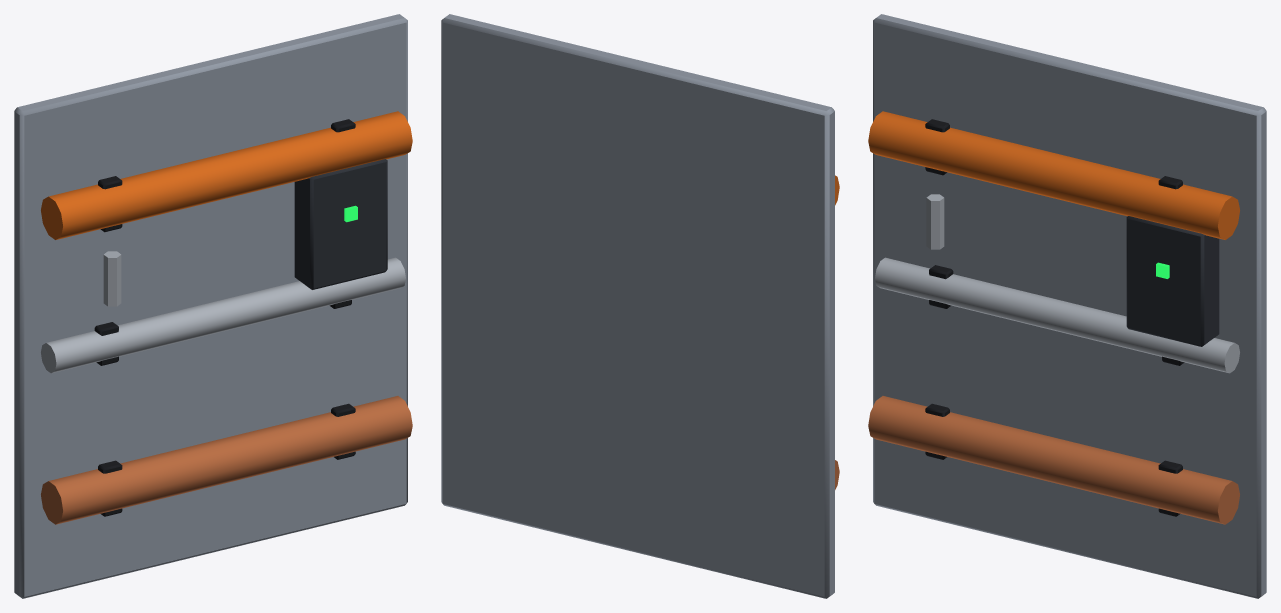
The model's file is wallpanel_conduit_run.glb.
The picture shows the model from 3 angles, left to right: view 1: azimuth 30°, elevation 25°; view 2: azimuth 150°, elevation 25°; view 3: azimuth 330°, elevation 25°; orthographic projection.
Visible parts, largest first — view 1: wallpanel_conduit_run; view 2: wallpanel_conduit_run; view 3: wallpanel_conduit_run.
Boxes of the visible parts, box(x1,y1,x2,y2) form: wallpanel_conduit_run: box(14, 14, 412, 598); wallpanel_conduit_run: box(441, 14, 839, 598); wallpanel_conduit_run: box(868, 14, 1266, 598).
Bounding box in the file's own units: 1 × 1.2 × 0.14.
